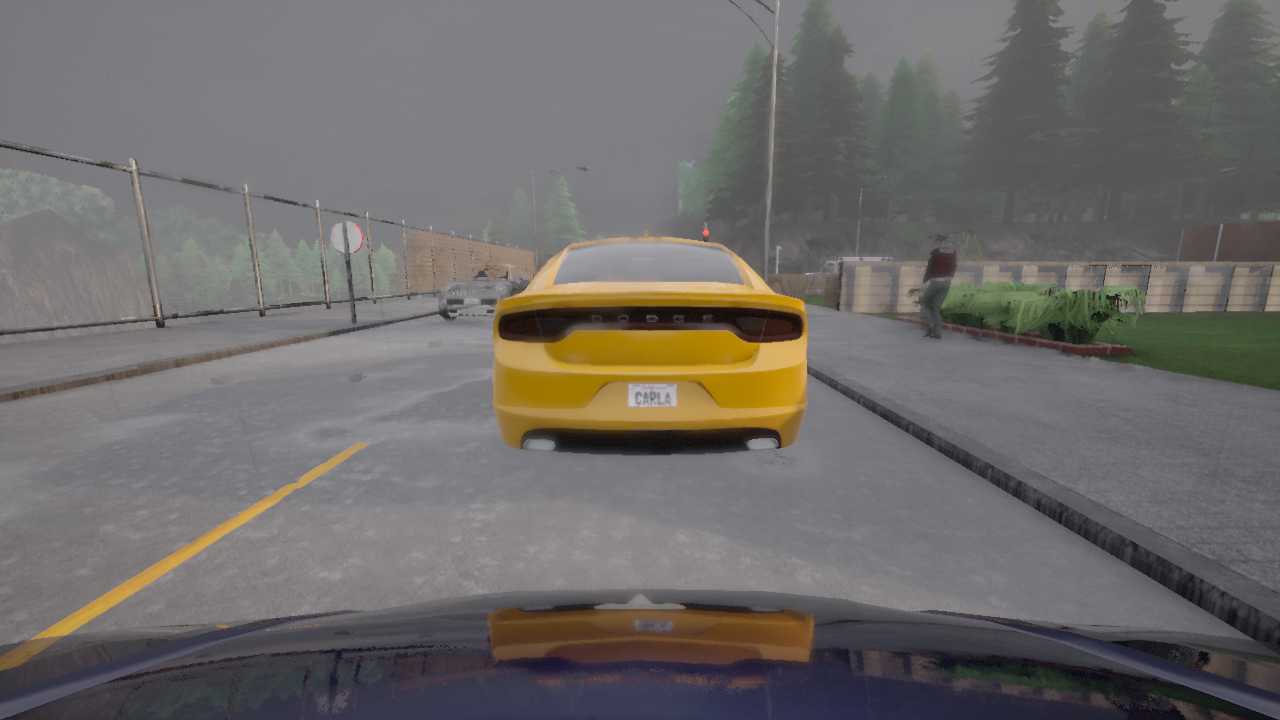cyclist: (0, 588, 1279, 719), (493, 230, 807, 454), (438, 264, 530, 320), (800, 256, 893, 289)
pedestrian: (919, 231, 957, 338)
